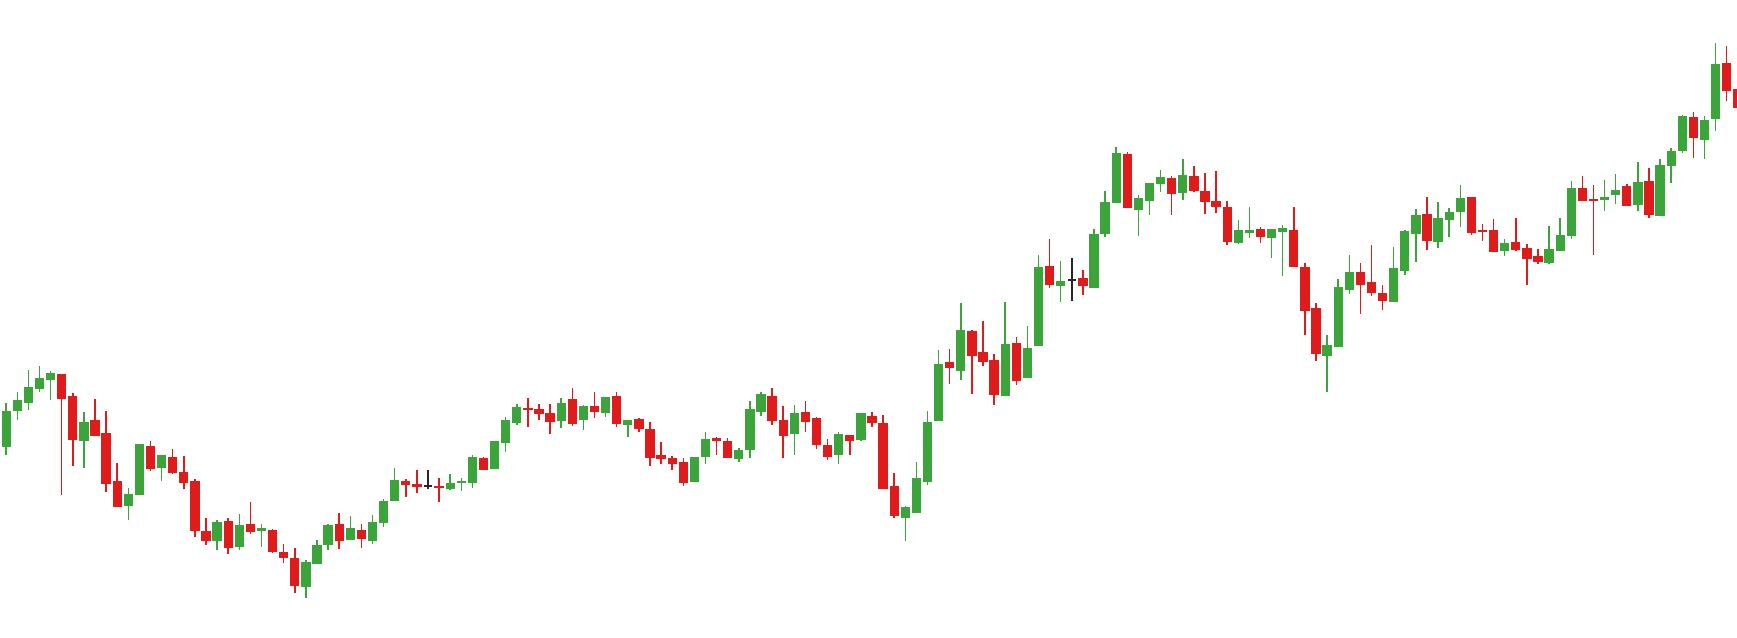buy: (677, 430, 921, 539)
